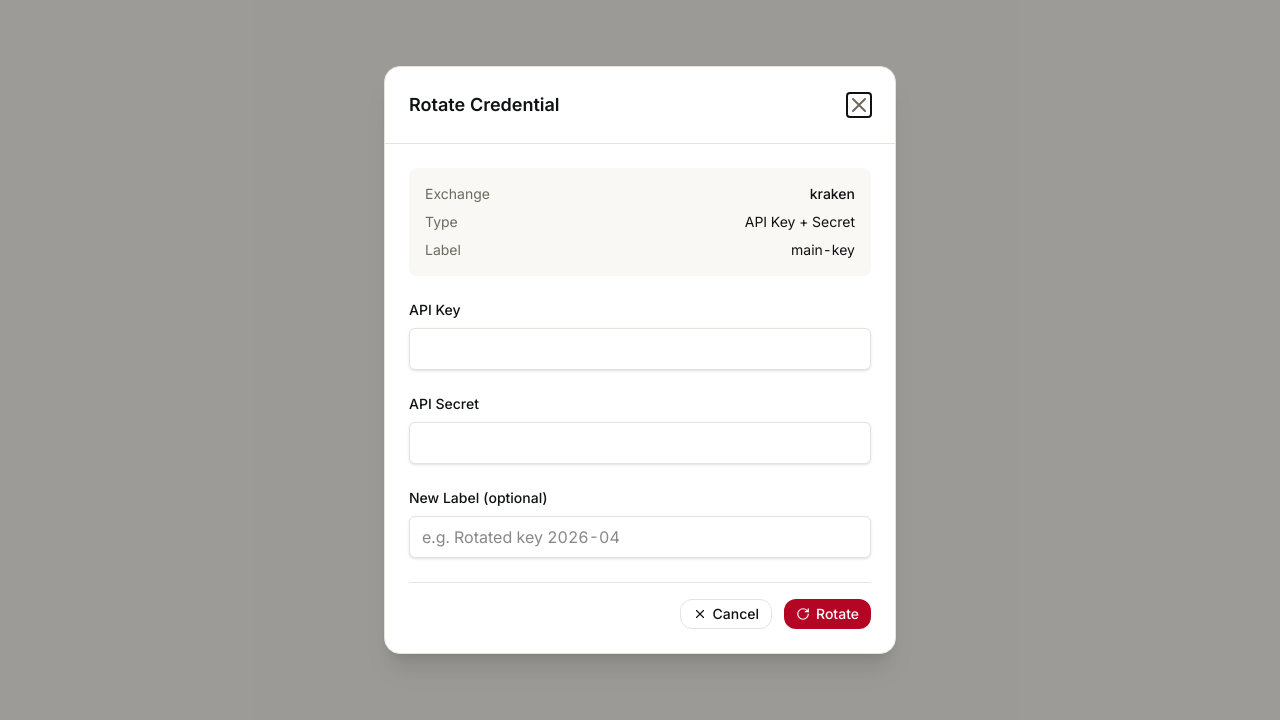
Test: RotateDialog › clears field error when typing
Click the button "Rotate" at point(828, 614), box [784,599,871,629]
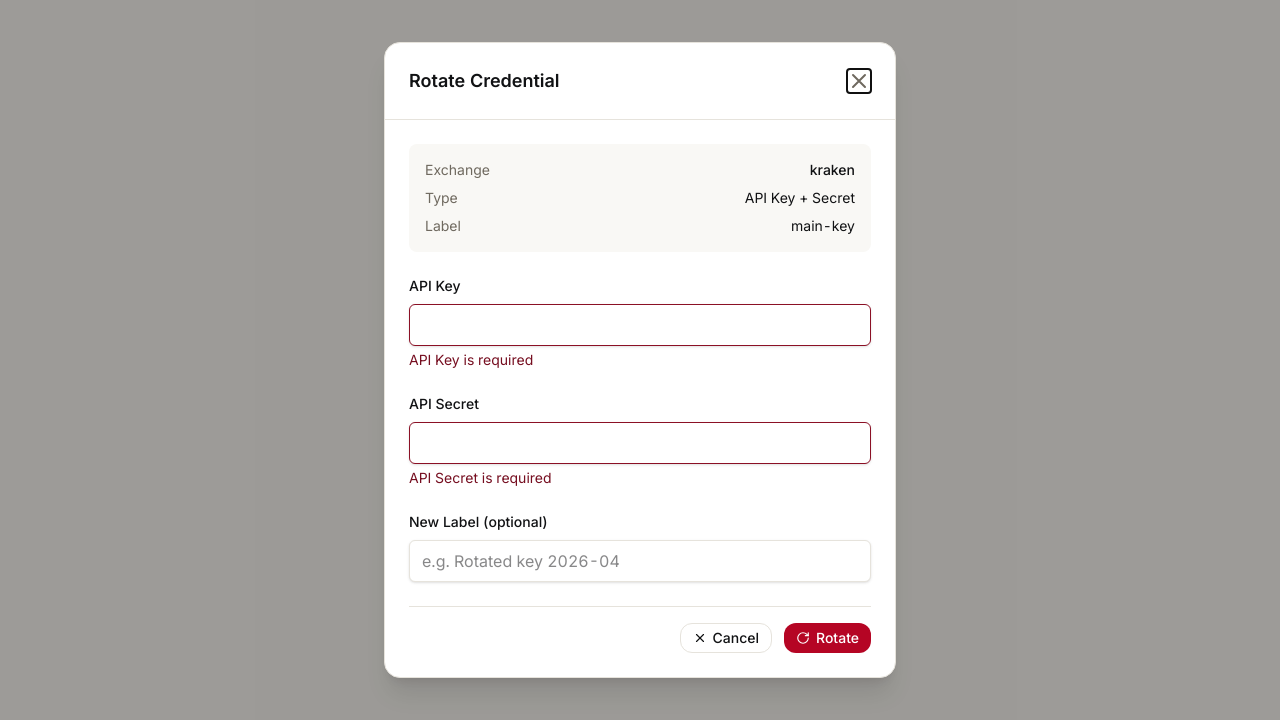
Check: the text "API Key is required" is shown, box [409,351,533,368]
Type "x" into the password field labelled "API Key" at point(640, 325), box [409,304,871,346]
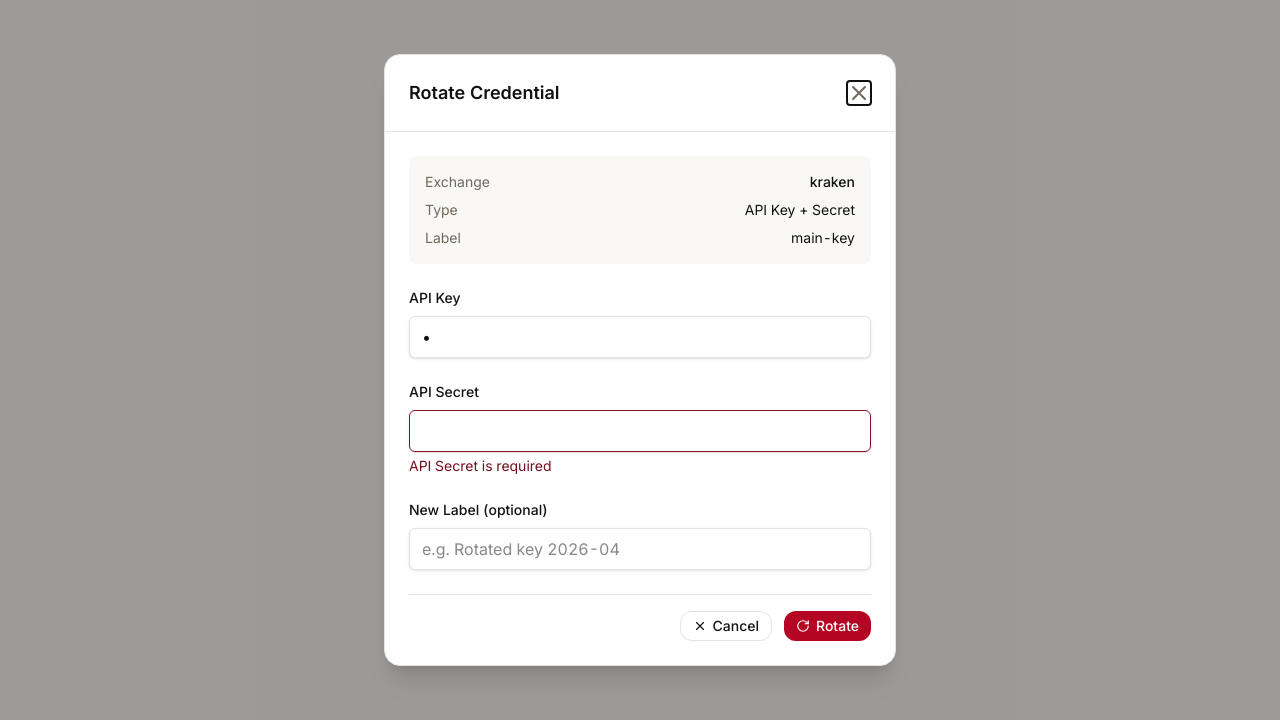
Check: the text "API Key is required" is gone
